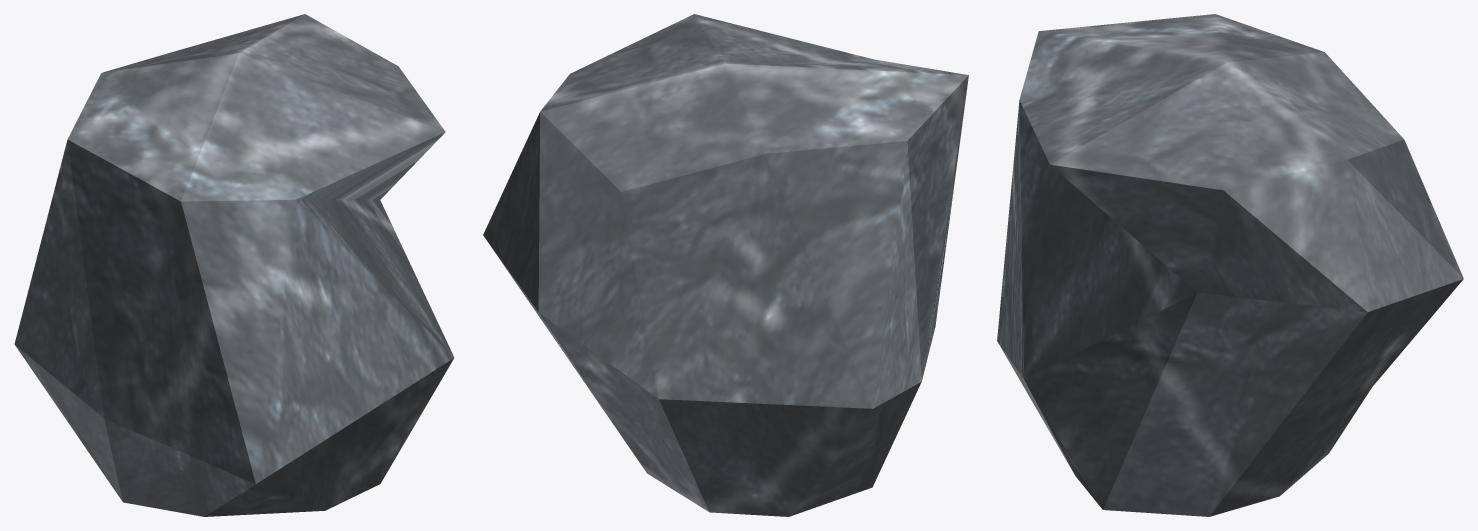
The model's file is RockH.fbx.
3 renders of one model, left to right at view 1: azimuth 30°, elevation 25°; view 2: azimuth 150°, elevation 25°; view 3: azimuth 270°, elevation 25°, orthographic.
Visible parts, largest first — view 1: RockH; view 2: RockH; view 3: RockH.
Part boxes in pixels (x1,y1,x2,y2): RockH: [14, 14, 454, 516]; RockH: [483, 14, 968, 516]; RockH: [997, 14, 1463, 516].
Size of the model in its own units: 189 by 203 by 211.
